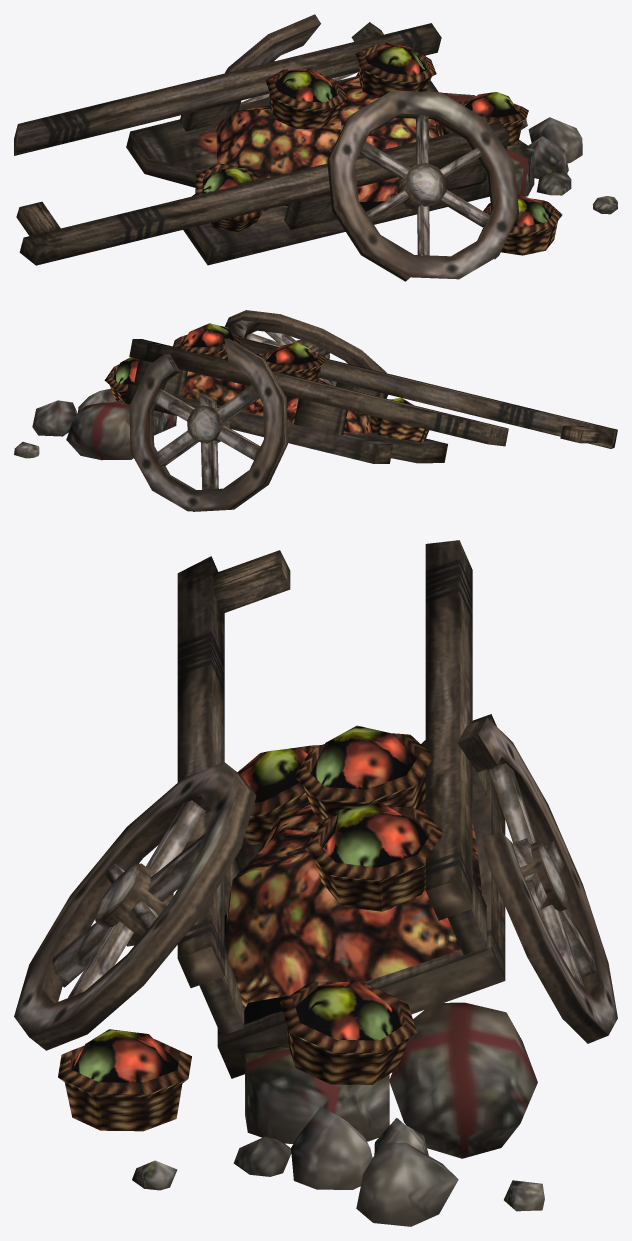
Rendered from PRP_BrokenAppleCart.FBX.
3 views of the same model, one above another, from view 1: azimuth 30°, elevation 25°; view 2: azimuth 150°, elevation 25°; view 3: azimuth 270°, elevation 25° (orthographic). The views are drawn at different scales.
Parts seen in each view (by area): view 1: PRP_BrokenAppleCart; view 2: PRP_BrokenAppleCart; view 3: PRP_BrokenAppleCart.
Boxes of the visible parts, x1,y1,x2,y2 form: PRP_BrokenAppleCart: (14, 14, 617, 281); PRP_BrokenAppleCart: (14, 310, 617, 511); PRP_BrokenAppleCart: (14, 540, 617, 1226).
Size of the model in its own units: 467 by 128 by 238.
